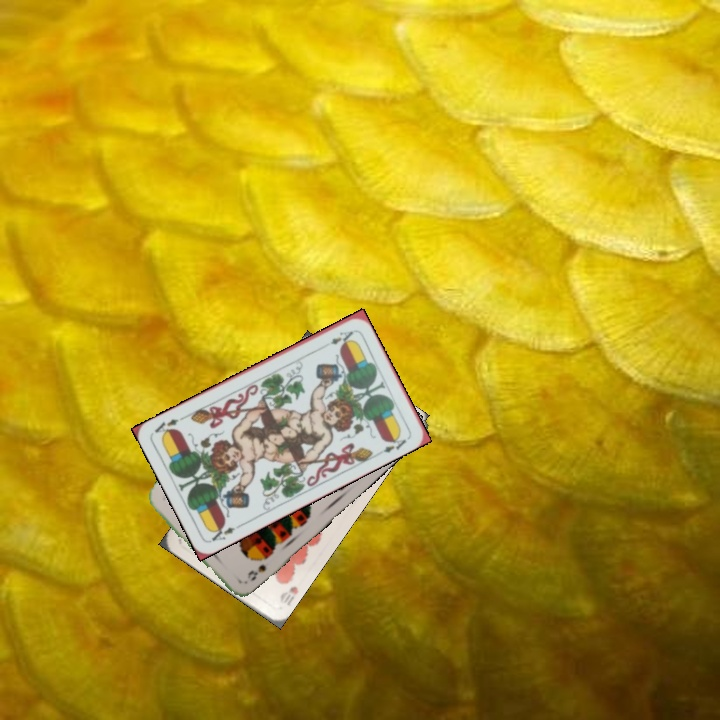EA: (206, 520, 244, 544), (327, 327, 356, 347)
H10: (275, 582, 301, 608)
S9: (243, 552, 271, 584)
